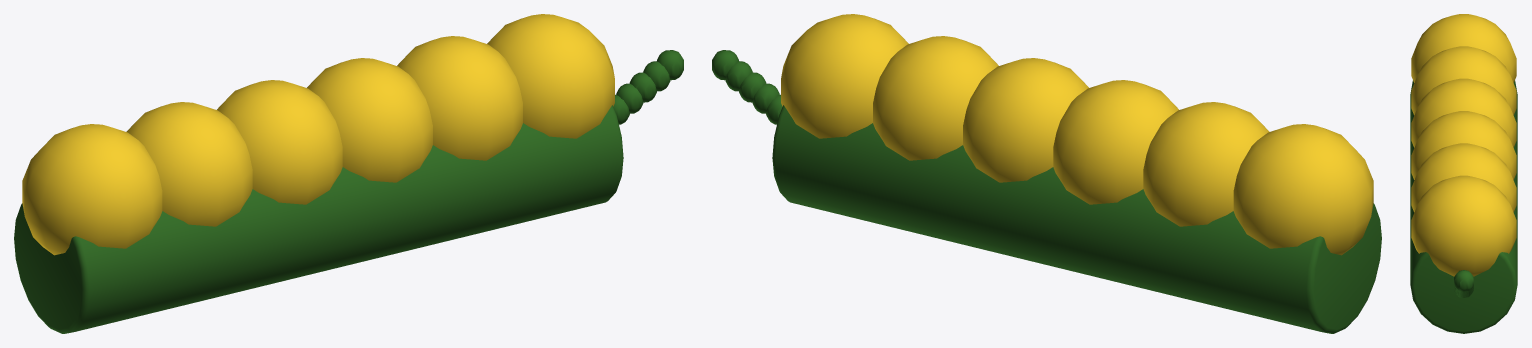
Rendered from pea_yellow.glb.
3 views of the same model, side by side, from view 1: azimuth 30°, elevation 25°; view 2: azimuth 150°, elevation 25°; view 3: azimuth 270°, elevation 25° (orthographic). The views are drawn at different scales.
Parts seen in each view (by area): view 1: pea_yellow; view 2: pea_yellow; view 3: pea_yellow.
Boxes of the visible parts, bbox=[...] form: pea_yellow: bbox=[14, 14, 683, 333]; pea_yellow: bbox=[712, 14, 1381, 333]; pea_yellow: bbox=[1410, 14, 1517, 333].
Size of the model in its own units: 1.44 by 0.4 by 0.28.
